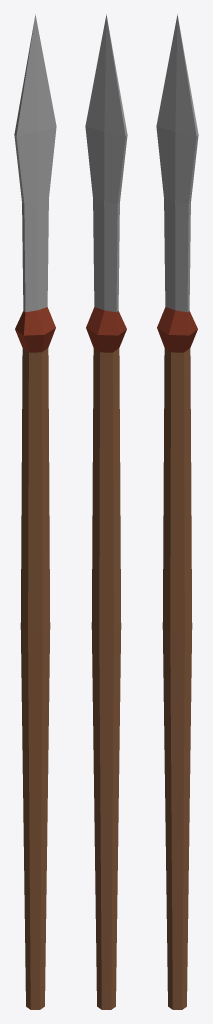
File: Spear_long.fbx
3 renders of one model, left to right at view 1: azimuth 30°, elevation 25°; view 2: azimuth 150°, elevation 25°; view 3: azimuth 330°, elevation 25°, orthographic.
Parts seen in each view (by area): view 1: Spear_long; view 2: Spear_long; view 3: Spear_long.
Part boxes in pixels (x1,y1,x2,y2): Spear_long: (14, 14, 56, 1009); Spear_long: (85, 14, 127, 1009); Spear_long: (156, 14, 198, 1009).
Bounding box in the file's own units: 8.73 × 206 × 6.67.
